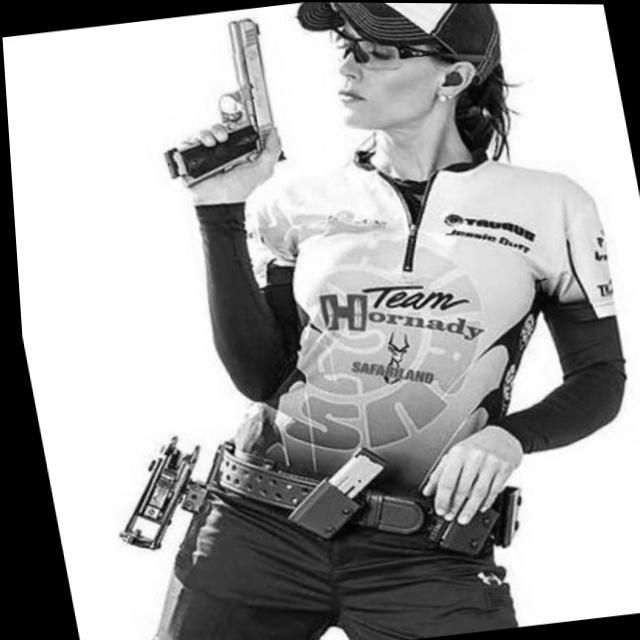weapon: (137, 14, 286, 191)
